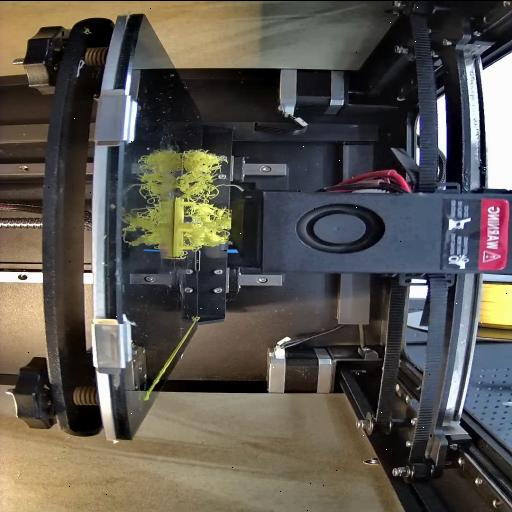spaghetti: (180, 148, 246, 252)
